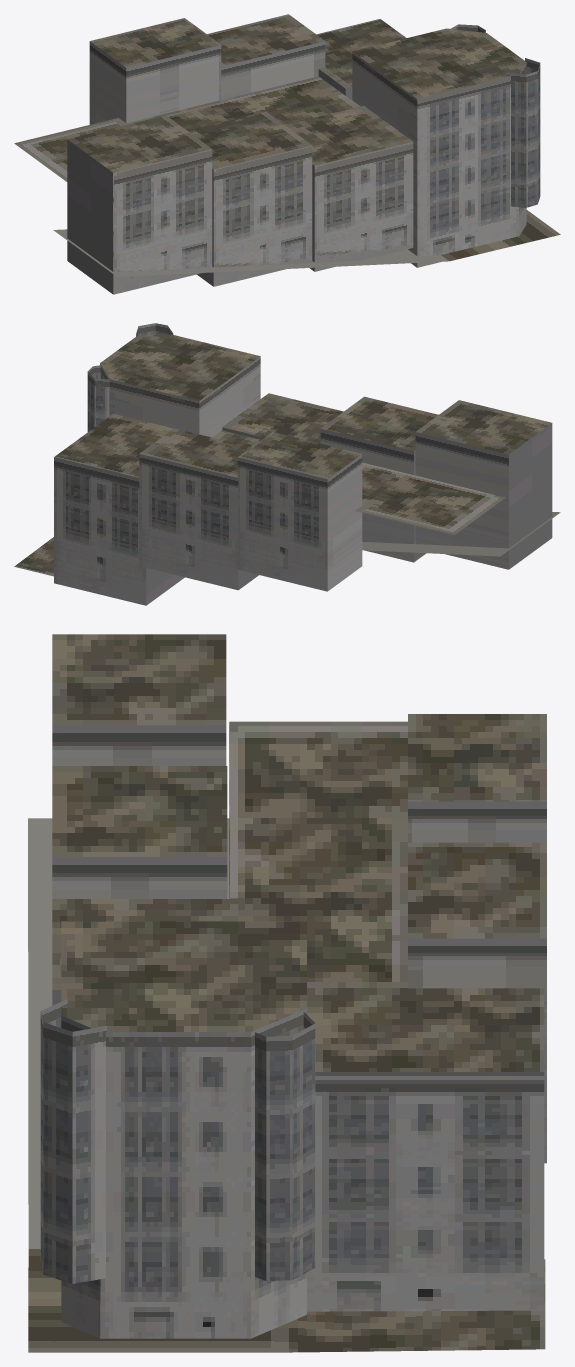
The model's file is lodvic2_sfw.obj.
3 renders of one model, top to bottom at view 1: azimuth 30°, elevation 25°; view 2: azimuth 150°, elevation 25°; view 3: azimuth 270°, elevation 25°, orthographic. The views are drawn at different scales.
Visible parts, largest first — view 1: LODvic2_sfw; view 2: LODvic2_sfw; view 3: LODvic2_sfw.
Boxes of the visible parts, box(x1,y1,x2,y2) form: LODvic2_sfw: box(14, 14, 560, 294); LODvic2_sfw: box(14, 323, 560, 605); LODvic2_sfw: box(28, 634, 546, 1352).
Size of the model in its own units: 79.96 by 31.22 by 42.82.
7 materials, 7 textured.
